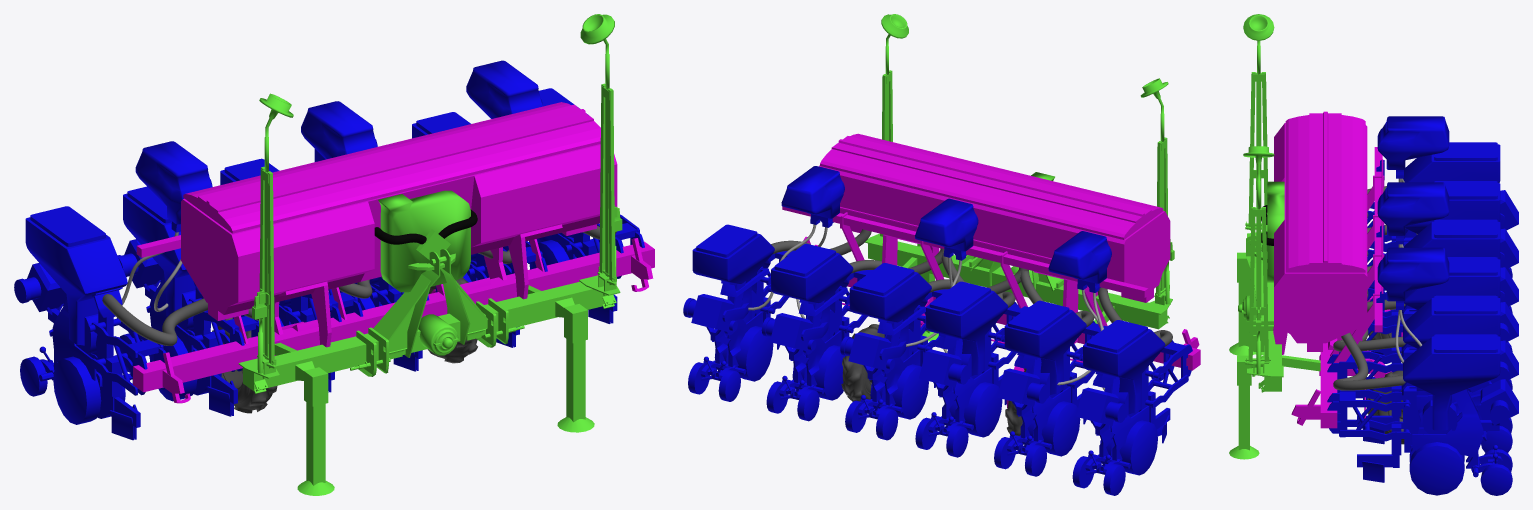
The model's file is Semoir.fbx.
3 renders of one model, left to right at view 1: azimuth 30°, elevation 25°; view 2: azimuth 150°, elevation 25°; view 3: azimuth 270°, elevation 25°, orthographic. The views are drawn at different scales.
Visible parts, largest first — view 1: GrandReservoir, Toutlarriere, SupportAvant, Support, ReservoirArriereHaut, InsigneAvant, SupportRoueAvant, Roue.001, ReservoirArriereHaut.001, RoueAvant, BezierCurve.003, Wheel.LF.001 (+5 smaller); view 2: Toutlarriere, GrandReservoir, ReservoirArriereHaut, SupportAvant, Roue.001, Roue.002, Roue.003, Roue.004, Cube.003, ReservoirArriereHaut.001, SupportRoueAvant, Wheel.LF.001 (+7 smaller); view 3: Toutlarriere, GrandReservoir, ReservoirArriereHaut, SupportAvant, SupportRoueAvant, ReservoirArriereHaut.001, Roue.001, Support, RoueAvant, Roue.003, BezierCurve.003, Cube.003 (+7 smaller).
Part boxes in pixels (x1=…): GrandReservoir: x1=181, y1=102, x2=617, y2=347; Toutlarriere: x1=14, y1=88, x2=644, y2=440; SupportAvant: x1=238, y1=249, x2=620, y2=495; Support: x1=133, y1=238, x2=654, y2=403; ReservoirArriereHaut: x1=135, y1=60, x2=543, y2=232; InsigneAvant: x1=378, y1=190, x2=470, y2=292; SupportRoueAvant: x1=252, y1=83, x2=622, y2=363; Roue.001: x1=53, y1=236, x2=573, y2=424; ReservoirArriereHaut.001: x1=301, y1=101, x2=377, y2=159; RoueAvant: x1=258, y1=14, x2=616, y2=373; BezierCurve.003: x1=102, y1=207, x2=620, y2=345; Wheel.LF.001: x1=212, y1=277, x2=477, y2=413; Toutlarriere: x1=683, y1=224, x2=1192, y2=474; GrandReservoir: x1=819, y1=133, x2=1170, y2=343; ReservoirArriereHaut: x1=781, y1=166, x2=1111, y2=292; SupportAvant: x1=865, y1=233, x2=1172, y2=382; Roue.001: x1=714, y1=346, x2=1157, y2=475; Roue.002: x1=735, y1=326, x2=1119, y2=463; Roue.003: x1=688, y1=362, x2=1125, y2=495; Roue.004: x1=718, y1=369, x2=1094, y2=488; Cube.003: x1=782, y1=206, x2=1148, y2=297; ReservoirArriereHaut.001: x1=915, y1=198, x2=978, y2=260; SupportRoueAvant: x1=882, y1=70, x2=1174, y2=296; Wheel.LF.001: x1=841, y1=324, x2=1026, y2=444; Toutlarriere: x1=1327, y1=142, x2=1518, y2=482; GrandReservoir: x1=1273, y1=111, x2=1367, y2=370; ReservoirArriereHaut: x1=1377, y1=116, x2=1449, y2=309; SupportAvant: x1=1229, y1=221, x2=1320, y2=459; SupportRoueAvant: x1=1248, y1=72, x2=1268, y2=362; ReservoirArriereHaut.001: x1=1377, y1=182, x2=1449, y2=244; Roue.001: x1=1409, y1=407, x2=1464, y2=495; Support: x1=1291, y1=342, x2=1365, y2=428; RoueAvant: x1=1243, y1=14, x2=1274, y2=374; Roue.003: x1=1480, y1=267, x2=1512, y2=495; BezierCurve.003: x1=1333, y1=186, x2=1405, y2=390; Cube.003: x1=1374, y1=147, x2=1383, y2=332.
Size of the model in its own units: 693 by 488 by 398.
